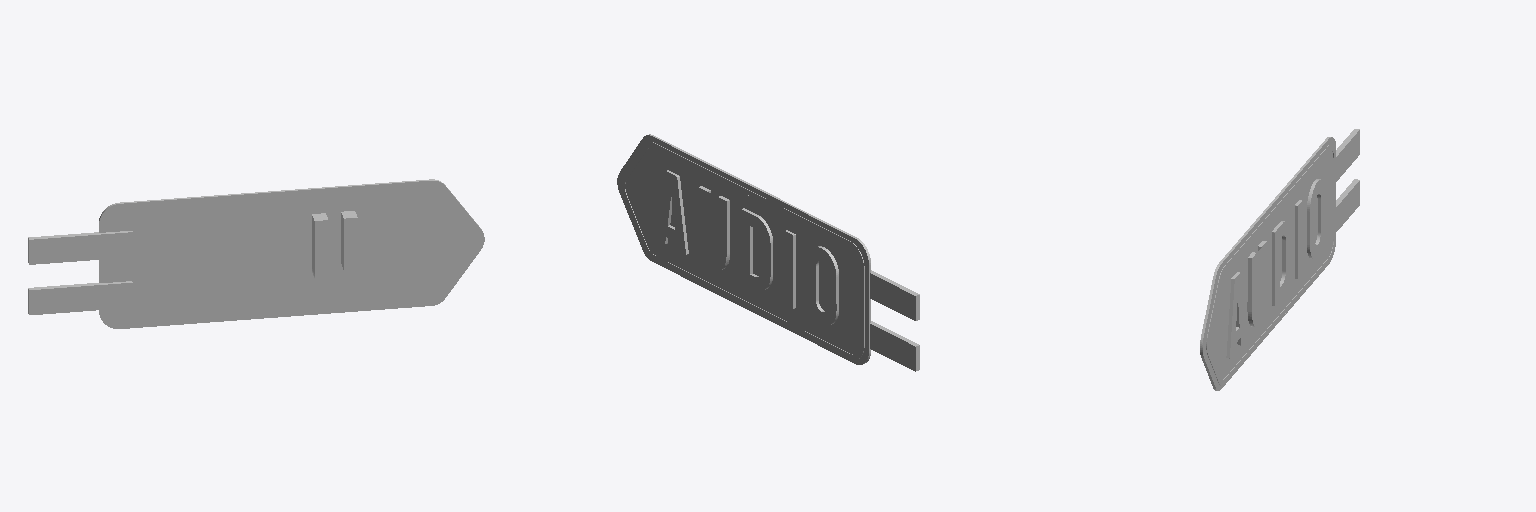
File: sign2.obj
The picture shows the model from 3 angles: view 1: azimuth 30°, elevation 25°; view 2: azimuth 150°, elevation 25°; view 3: azimuth 270°, elevation 25°; orthographic projection.
Visible parts, largest first — view 1: b, a; view 2: b, a; view 3: b, a.
Boxes of the visible parts, <box> form: b: <box>99,179,484,328</box>; a: <box>28,211,357,314</box>; b: <box>617,134,870,364</box>; a: <box>621,142,919,371</box>; b: <box>1200,137,1335,390</box>; a: <box>1206,129,1359,385</box>.
Bounding box in the file's own units: 362 × 115 × 133.